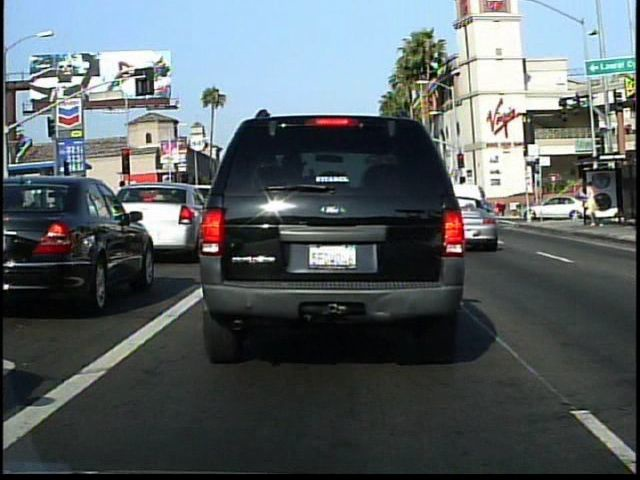person: (579, 177, 603, 227)
